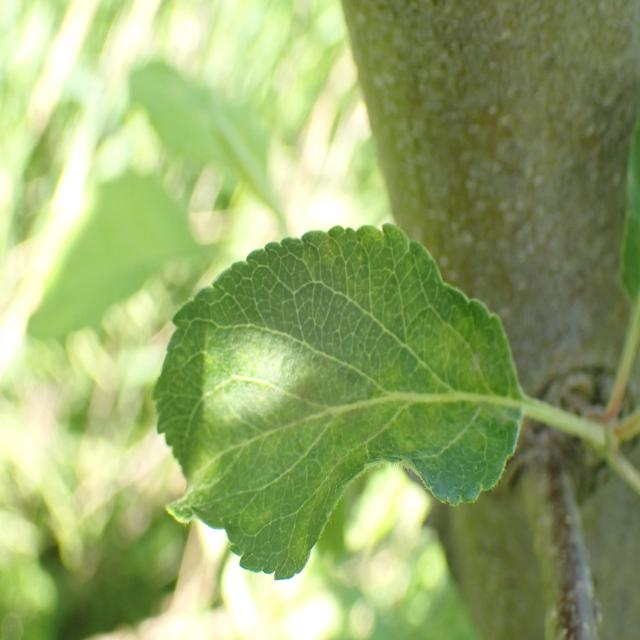scab: (170, 251, 498, 518)
